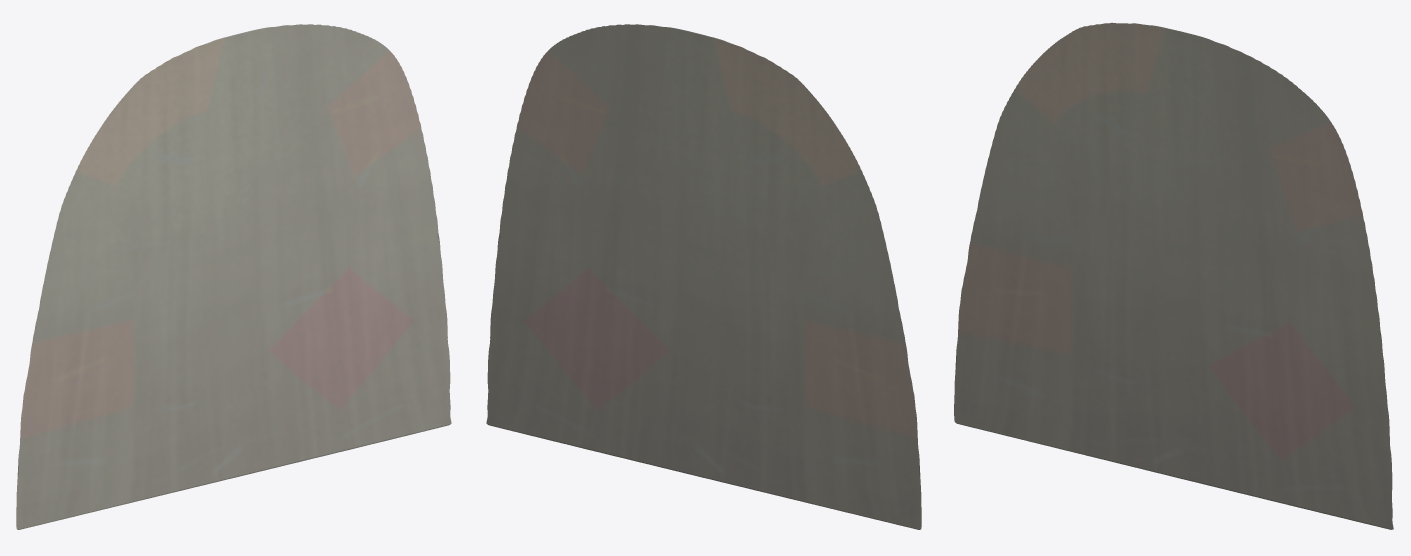
File: Muntanya_02.fbx
The picture shows the model from 3 angles, left to right: view 1: azimuth 30°, elevation 25°; view 2: azimuth 150°, elevation 25°; view 3: azimuth 330°, elevation 25°; orthographic projection.
Visible parts, largest first — view 1: Muntanya_02; view 2: Muntanya_02; view 3: Muntanya_02.
Boxes of the visible parts, x1=… form: Muntanya_02: x1=16, y1=24, x2=451, y2=529; Muntanya_02: x1=486, y1=24, x2=921, y2=529; Muntanya_02: x1=954, y1=22, x2=1393, y2=529.
Bounding box in the file's own units: 8.94 × 8.94 × 5.17e-07.
